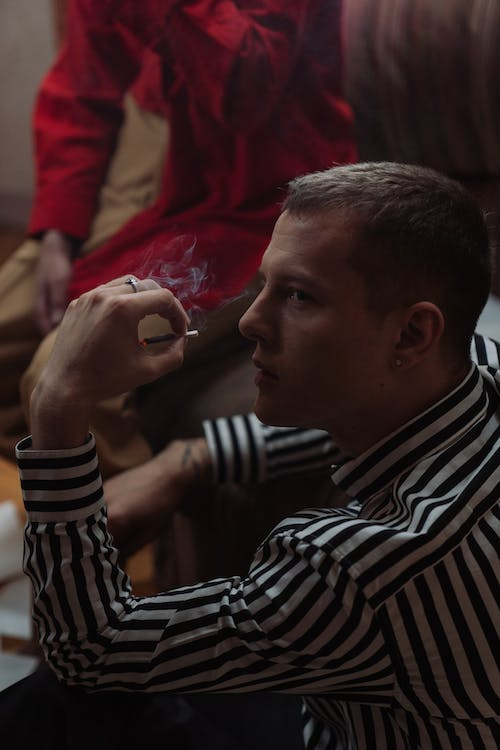cigarette: (143, 324, 203, 348)
